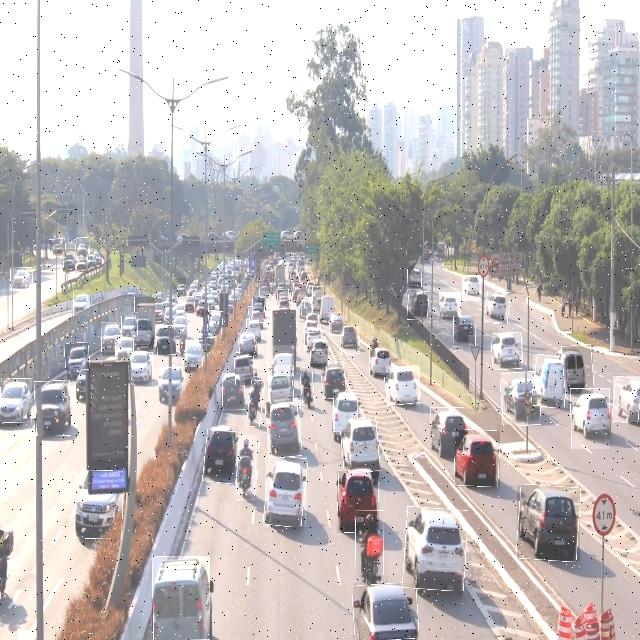Car: (404, 507, 467, 590), (153, 556, 210, 640), (517, 485, 580, 561), (353, 583, 418, 640), (75, 471, 122, 539), (265, 456, 307, 527), (337, 471, 379, 533), (455, 430, 500, 487), (571, 388, 610, 449), (501, 372, 541, 425), (341, 418, 379, 472), (34, 381, 71, 436), (267, 399, 301, 458), (204, 430, 239, 483), (533, 355, 568, 408), (430, 407, 464, 456), (562, 345, 593, 394), (0, 378, 32, 422), (386, 366, 420, 405), (613, 376, 640, 422), (492, 332, 523, 370), (333, 390, 358, 432), (159, 367, 185, 404), (321, 362, 346, 398), (222, 374, 245, 412), (485, 292, 510, 324), (131, 352, 153, 385), (369, 343, 390, 377), (454, 315, 476, 347), (65, 343, 89, 370), (235, 352, 254, 385), (274, 345, 294, 376), (155, 326, 176, 355), (102, 322, 122, 352), (339, 327, 360, 355), (408, 291, 428, 320), (439, 292, 461, 317), (10, 268, 33, 290), (311, 342, 329, 370), (462, 276, 481, 302), (116, 335, 134, 362), (185, 340, 203, 367), (73, 290, 90, 316), (304, 326, 321, 351), (122, 312, 138, 338), (239, 333, 256, 357), (321, 294, 335, 322), (208, 311, 222, 338), (174, 314, 188, 340), (408, 266, 422, 292), (329, 312, 344, 336), (49, 239, 66, 258), (62, 253, 77, 274), (292, 284, 305, 308), (76, 238, 90, 260), (173, 278, 187, 300), (312, 286, 323, 313), (195, 296, 209, 317), (306, 311, 319, 333), (249, 306, 264, 323), (75, 255, 89, 273), (246, 319, 259, 338), (185, 297, 197, 315), (278, 289, 289, 308), (301, 297, 312, 316), (253, 297, 265, 312), (259, 283, 268, 295)
Motorcycle: (356, 510, 384, 583), (237, 436, 257, 502), (248, 381, 263, 427), (301, 367, 315, 410)
Truck: (267, 306, 296, 366), (134, 297, 155, 349), (268, 365, 294, 404)
